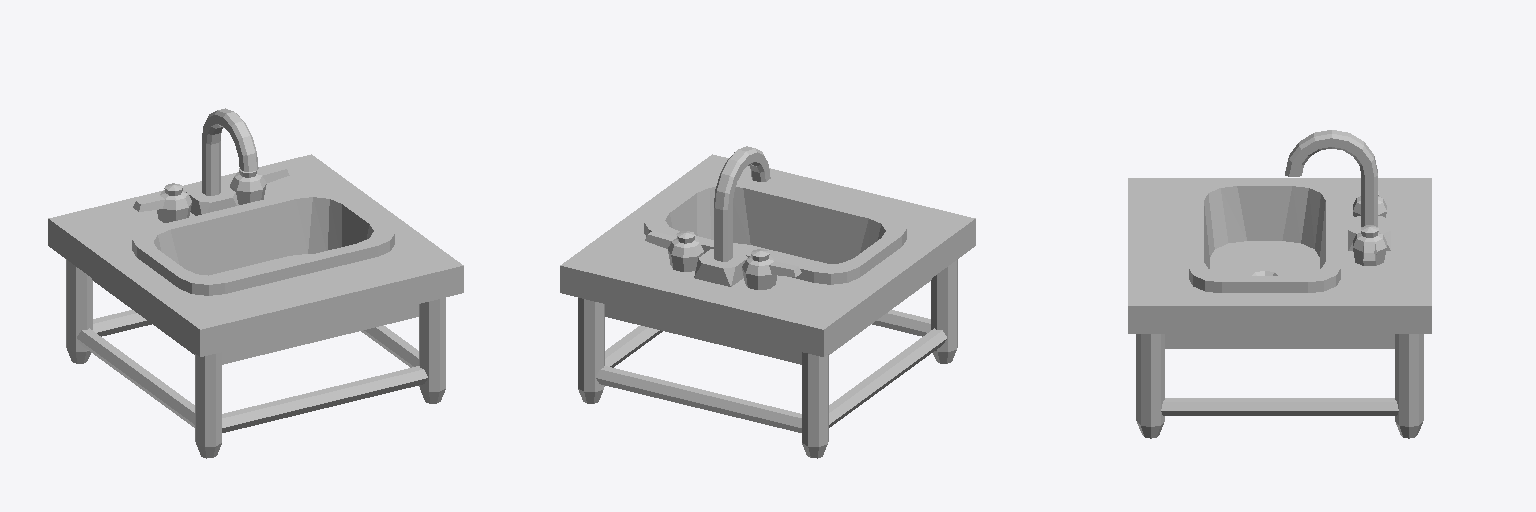
Rendered from kitchentable_sink.obj.
The picture shows the model from 3 angles: view 1: azimuth 30°, elevation 25°; view 2: azimuth 150°, elevation 25°; view 3: azimuth 270°, elevation 25°; orthographic projection.
Visible parts, largest first — view 1: kitchentable_sink_Cube.987; view 2: kitchentable_sink_Cube.987; view 3: kitchentable_sink_Cube.987.
Part boxes in pixels (bbox=[...]): kitchentable_sink_Cube.987: bbox=[48, 108, 463, 458]; kitchentable_sink_Cube.987: bbox=[560, 146, 975, 458]; kitchentable_sink_Cube.987: bbox=[1128, 130, 1431, 438].
Size of the model in its own units: 2 by 1.81 by 2.